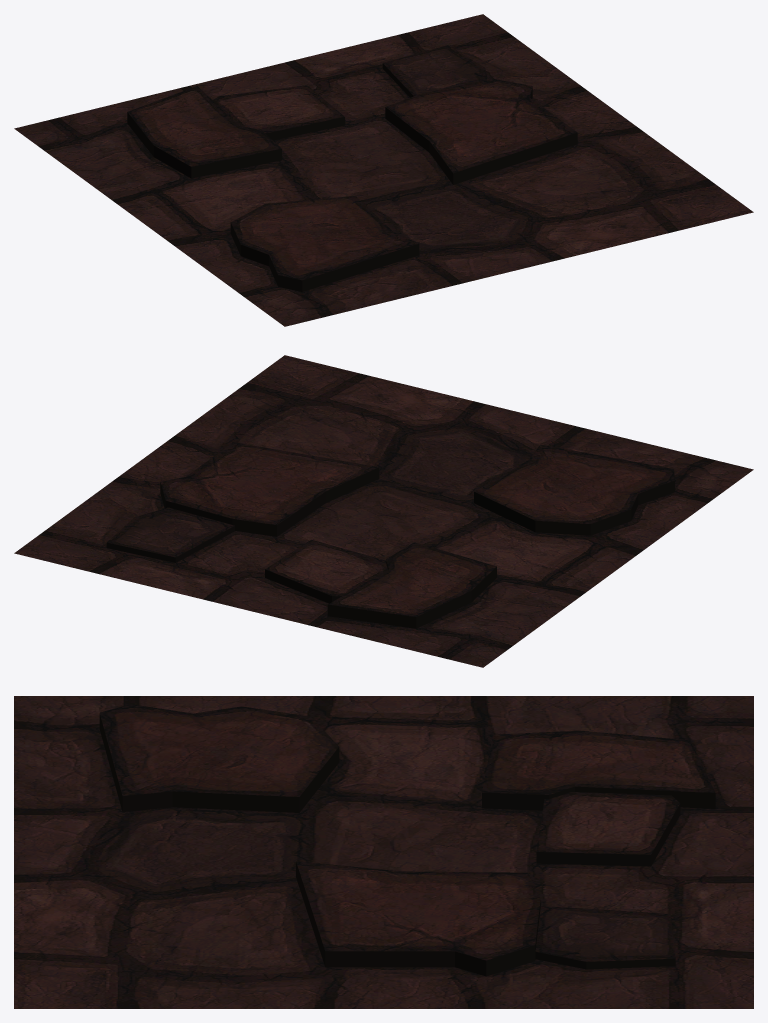
The model's file is lava_floor_blank_05.fbx.
3 views of the same model, one above another, from view 1: azimuth 30°, elevation 25°; view 2: azimuth 150°, elevation 25°; view 3: azimuth 270°, elevation 25° (orthographic). The views are drawn at different scales.
Parts seen in each view (by area): view 1: obj0.018; view 2: obj0.018; view 3: obj0.018.
Boxes of the visible parts, left/top/right/bottom form: obj0.018: left=14, top=14, right=753, bottom=326; obj0.018: left=14, top=355, right=753, bottom=667; obj0.018: left=14, top=696, right=753, bottom=1008.
Bounding box in the file's own units: 4 × 0.095 × 4.
